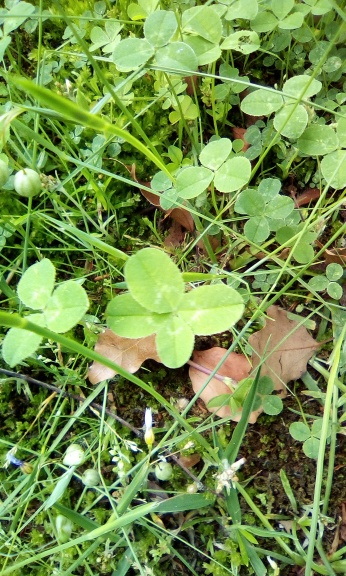4leaf: (105, 246, 245, 369)
